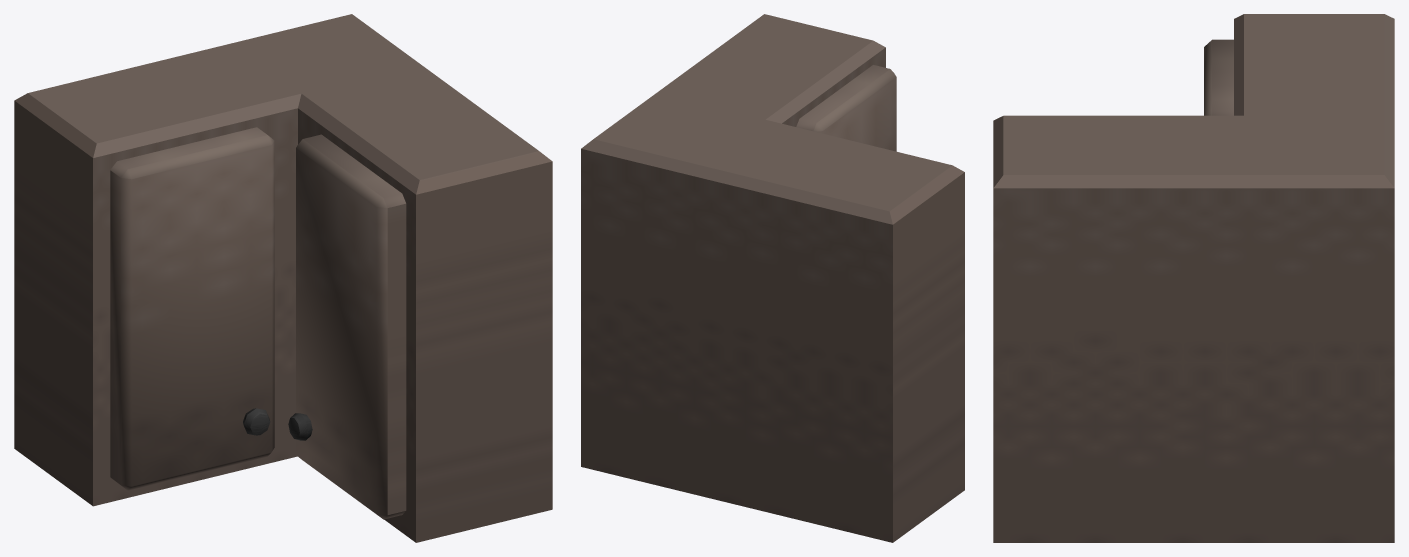
The model's file is kitchencabinet_corner_styleB.gltf.
3 renders of one model, left to right at view 1: azimuth 30°, elevation 25°; view 2: azimuth 150°, elevation 25°; view 3: azimuth 270°, elevation 25°, orthographic. The views are drawn at different scales.
Parts seen in each view (by area): view 1: kitchencabinet_corner_styleB; view 2: kitchencabinet_corner_styleB; view 3: kitchencabinet_corner_styleB.
Part boxes in pixels (bbox=[...]): kitchencabinet_corner_styleB: bbox=[14, 14, 552, 542]; kitchencabinet_corner_styleB: bbox=[581, 14, 964, 542]; kitchencabinet_corner_styleB: bbox=[993, 14, 1394, 542].
Bounding box in the file's own units: 2 × 2 × 2.
1 material, 1 textured.
